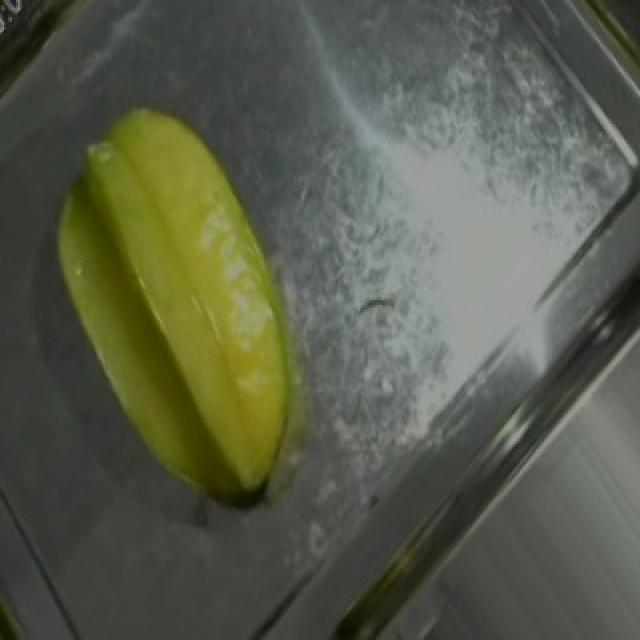fruit: (14, 74, 364, 482)
